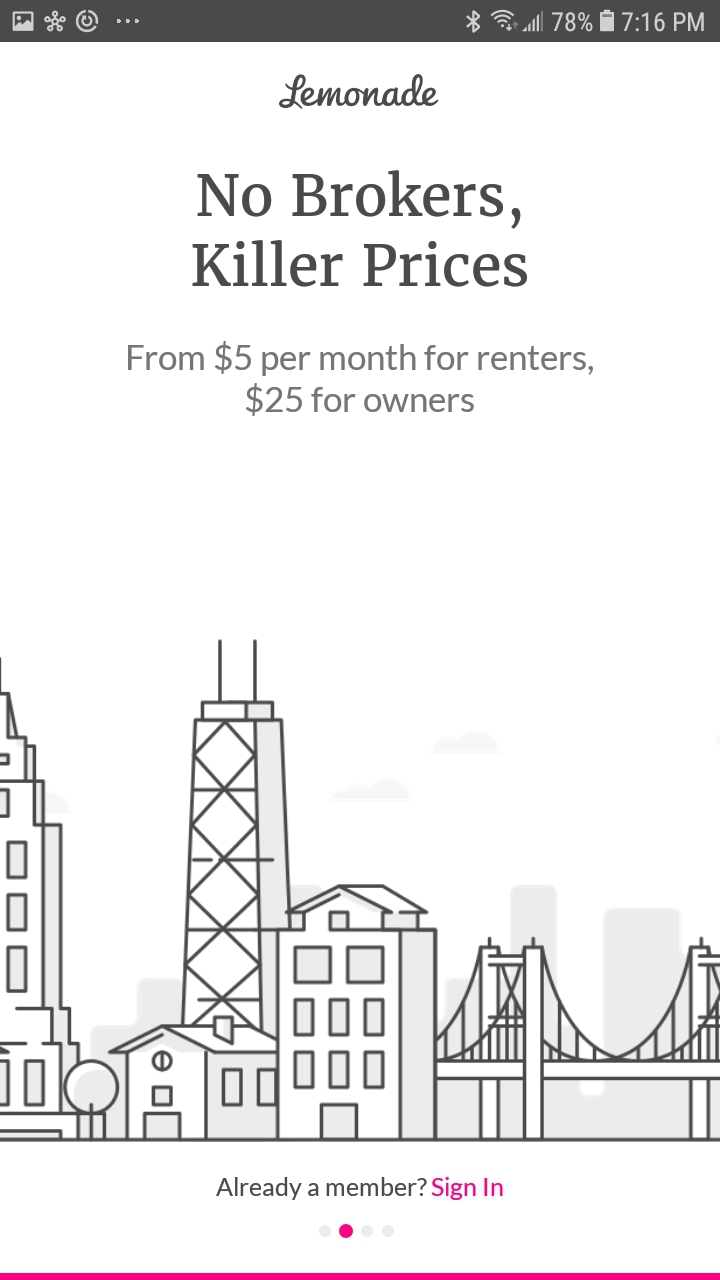Image: (1, 639, 720, 1142)
PageIndicator: (318, 1223, 395, 1239)
Text: (192, 170, 528, 288), (128, 341, 594, 417), (216, 1176, 503, 1201), (279, 75, 439, 110)
UpperTaskBar: (1, 1, 720, 43)
